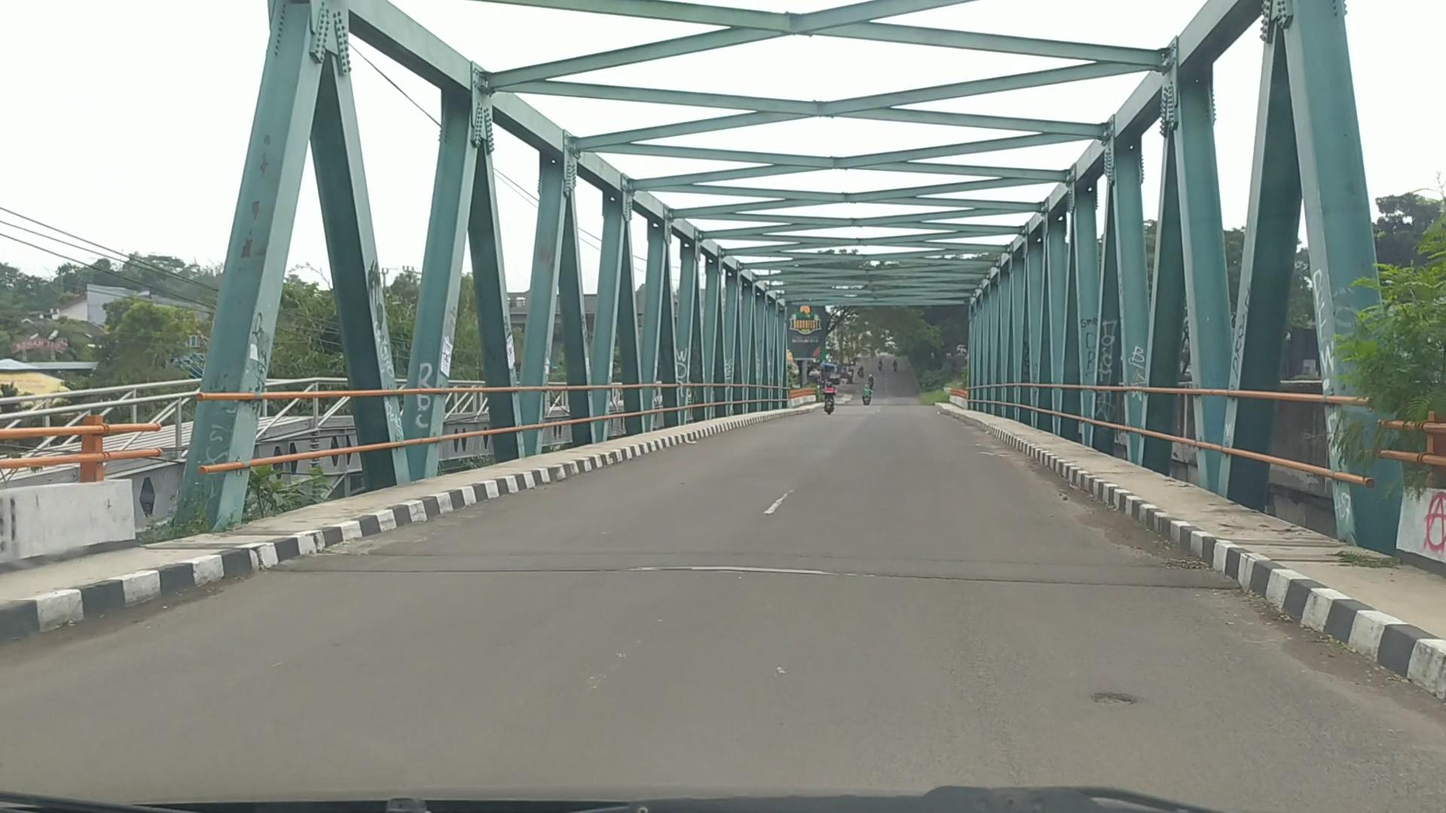pothole: (1094, 690, 1133, 706)
